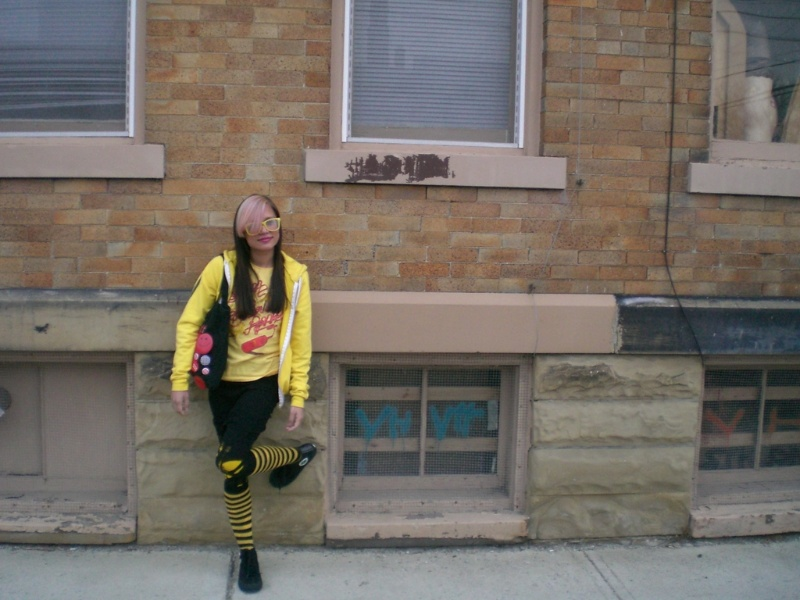person: (172, 194, 315, 594)
